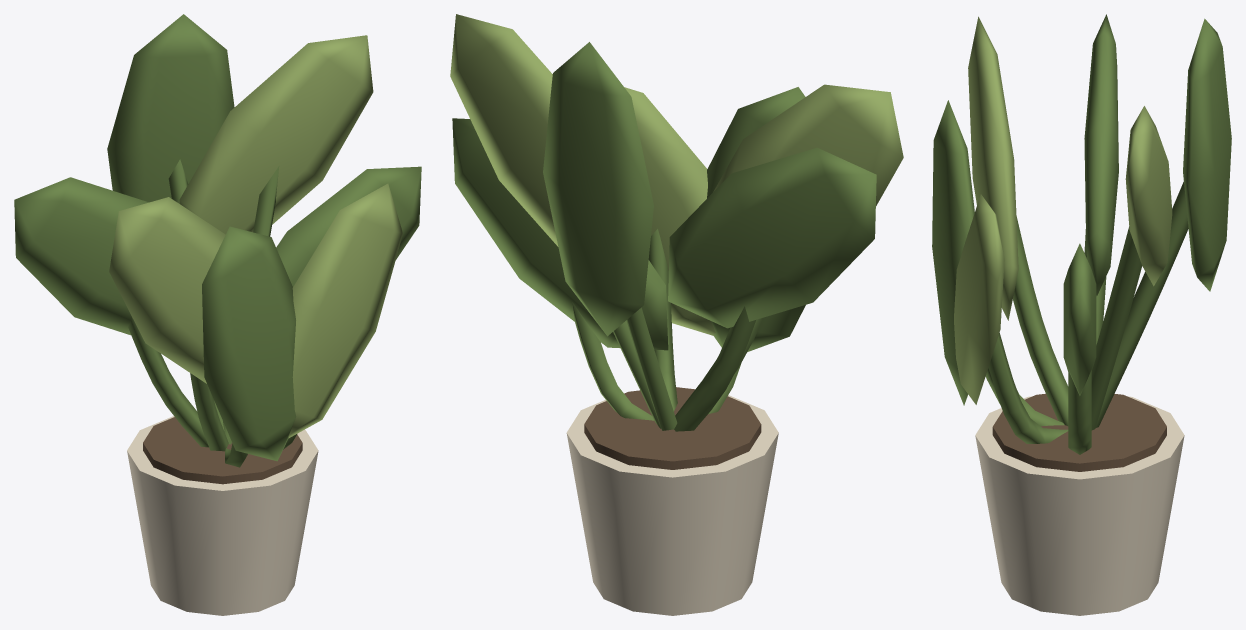
File: living_ref_console_plant.glb
3 views of the same model, side by side, from view 1: azimuth 30°, elevation 25°; view 2: azimuth 150°, elevation 25°; view 3: azimuth 270°, elevation 25° (orthographic). The views are drawn at different scales.
Size of the model in its own units: 0.3001 by 0.3812 by 0.1804.
